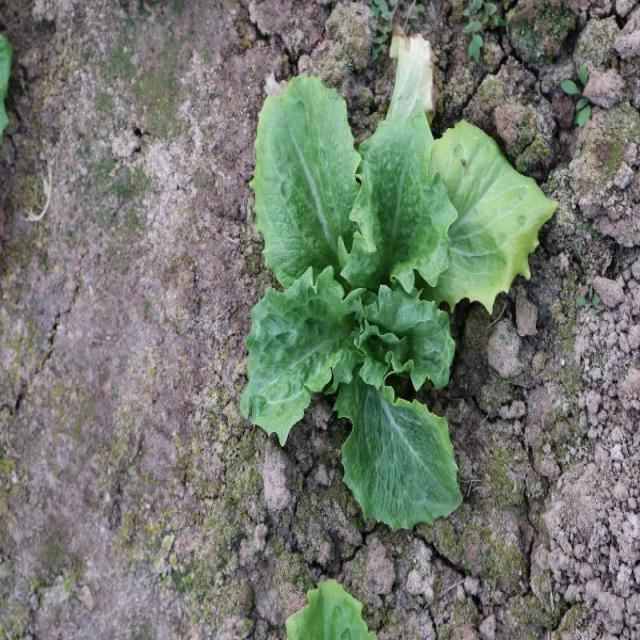crop: (250, 75, 558, 520)
